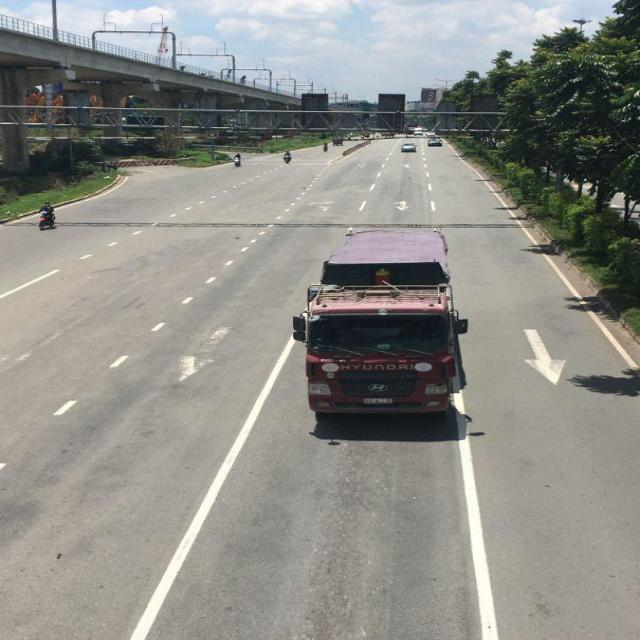car: (401, 142, 416, 153), (429, 136, 443, 147)
truck: (298, 229, 471, 432)
